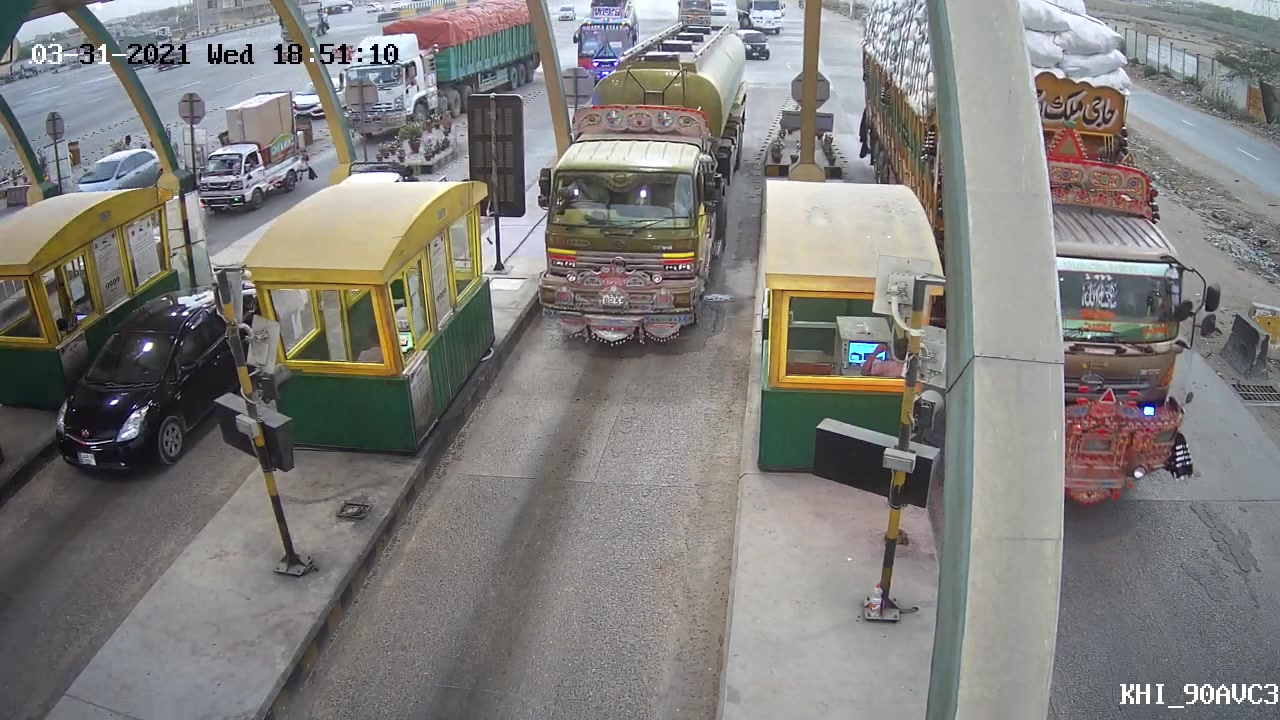F6: (527, 15, 761, 352)
